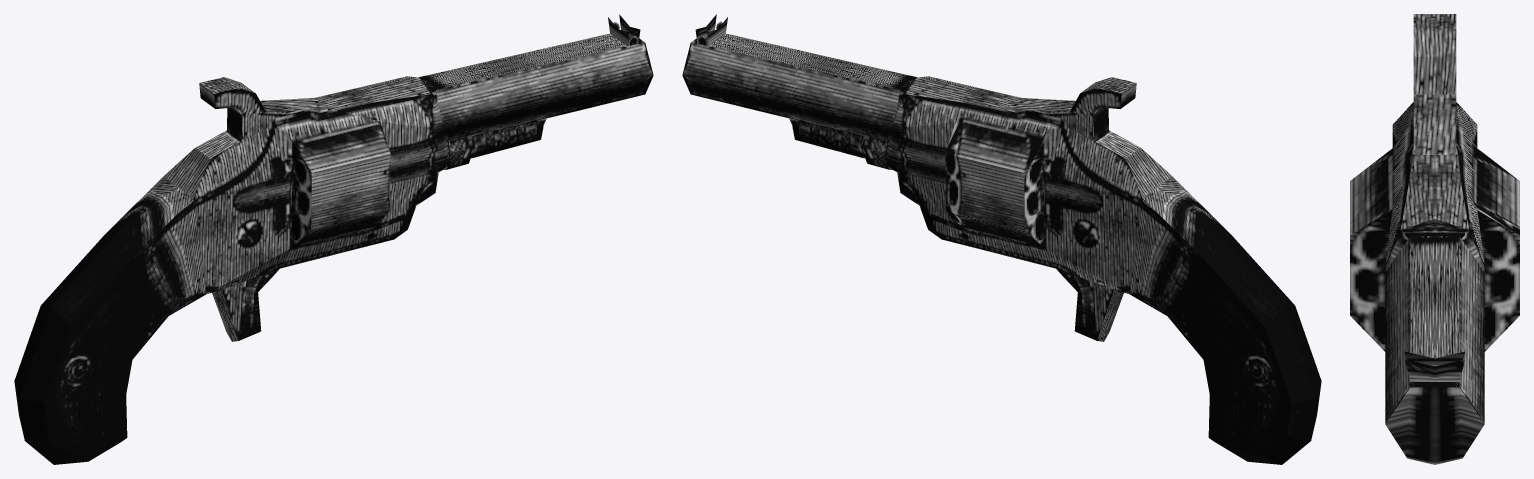
The model's file is pistol.fbx.
The picture shows the model from 3 angles, left to right: view 1: azimuth 30°, elevation 25°; view 2: azimuth 150°, elevation 25°; view 3: azimuth 270°, elevation 25°; orthographic projection. The views are drawn at different scales.
Visible parts, largest first — view 1: Cube; view 2: Cube; view 3: Cube.
Part boxes in pixels (left/top/right/bottom): Cube: left=14, top=14, right=653, bottom=464; Cube: left=682, top=14, right=1321, bottom=464; Cube: left=1350, top=14, right=1519, bottom=464.
Size of the model in its own units: 477 by 254 by 80.
